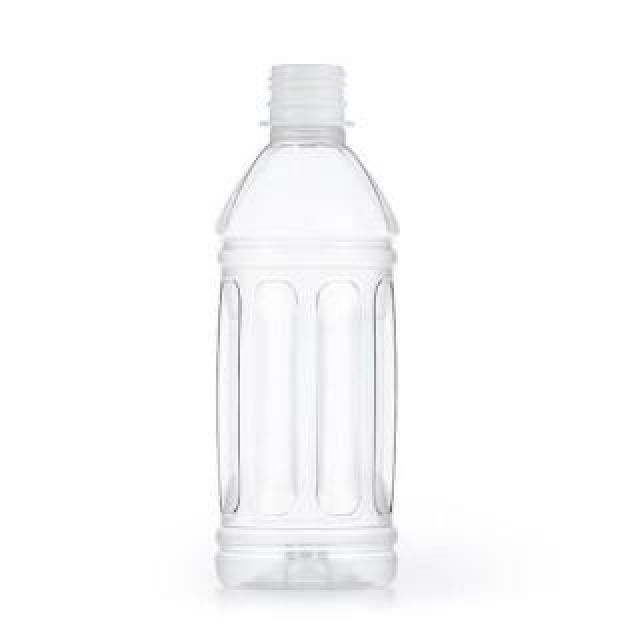bottle: (200, 52, 416, 596)
